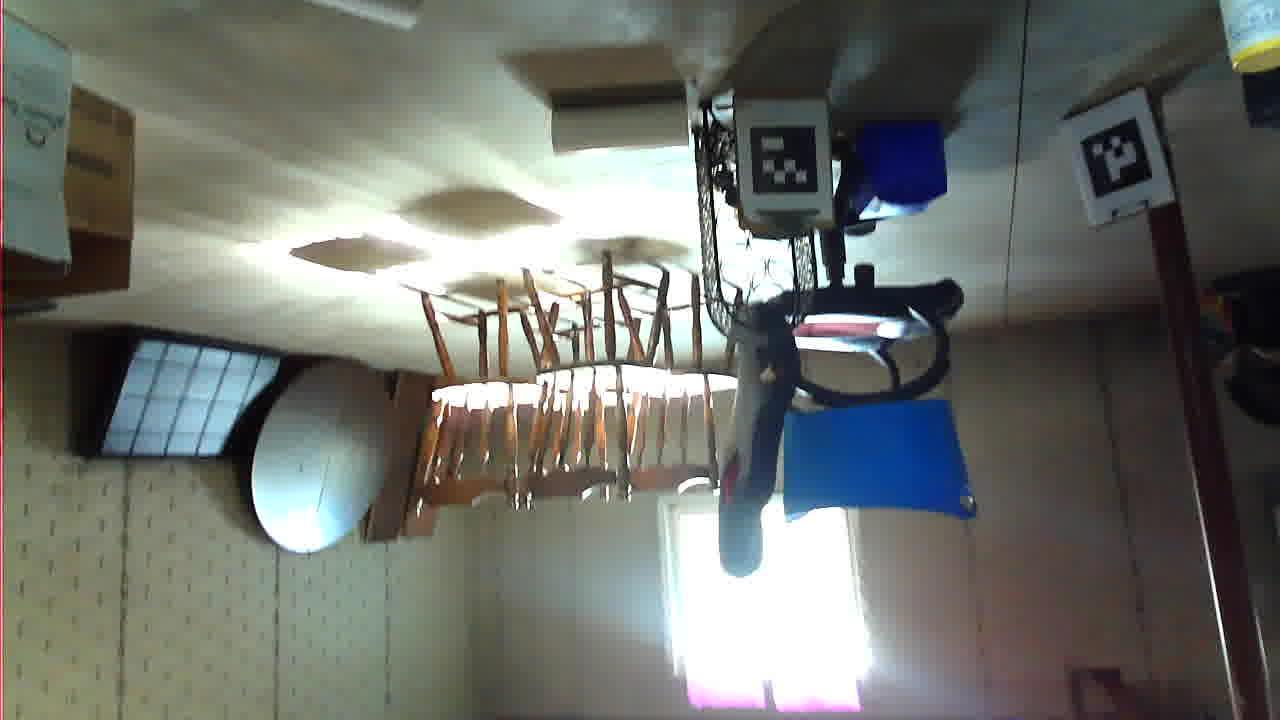coral: (592, 566, 731, 625), (859, 687, 975, 720)
